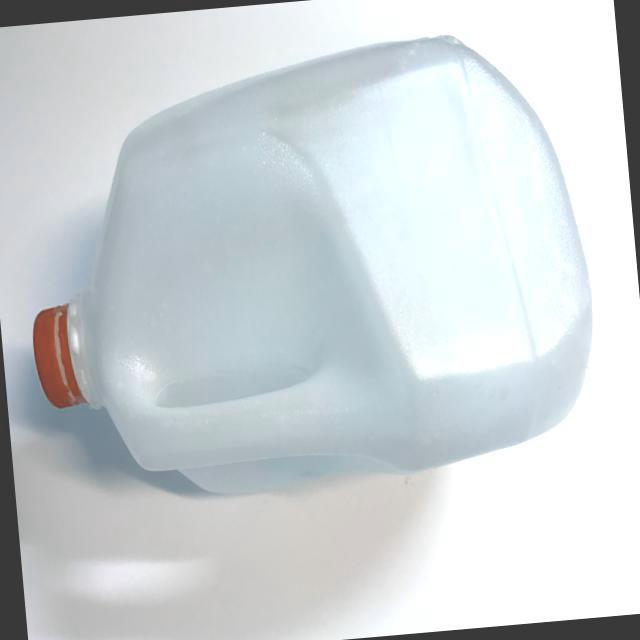plastic: (0, 10, 621, 561)
